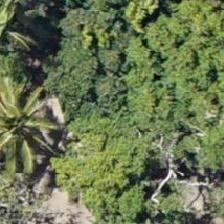coconut_tree: (0, 0, 50, 63)
